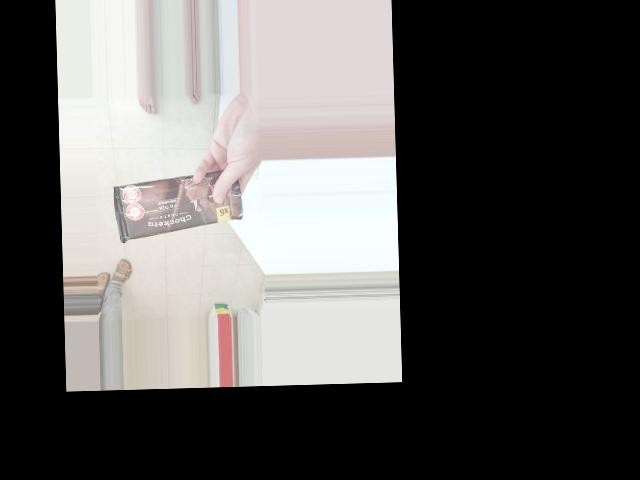chocolate: (113, 166, 247, 242)
